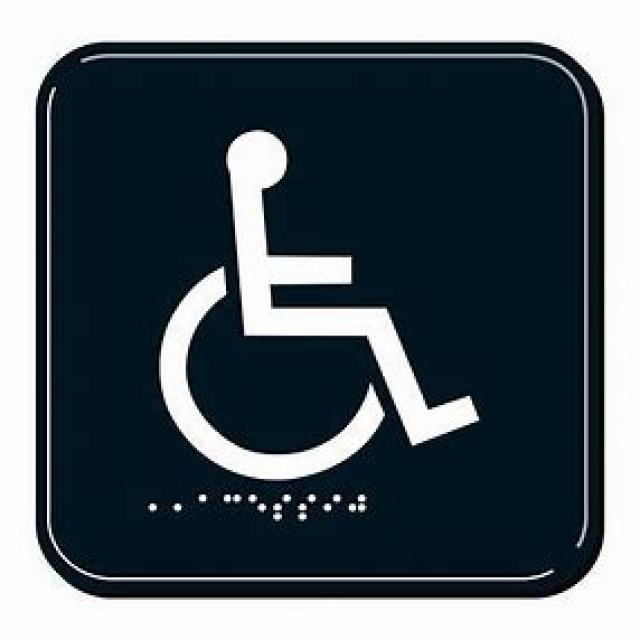symbol_of_access: (154, 129, 484, 483)
